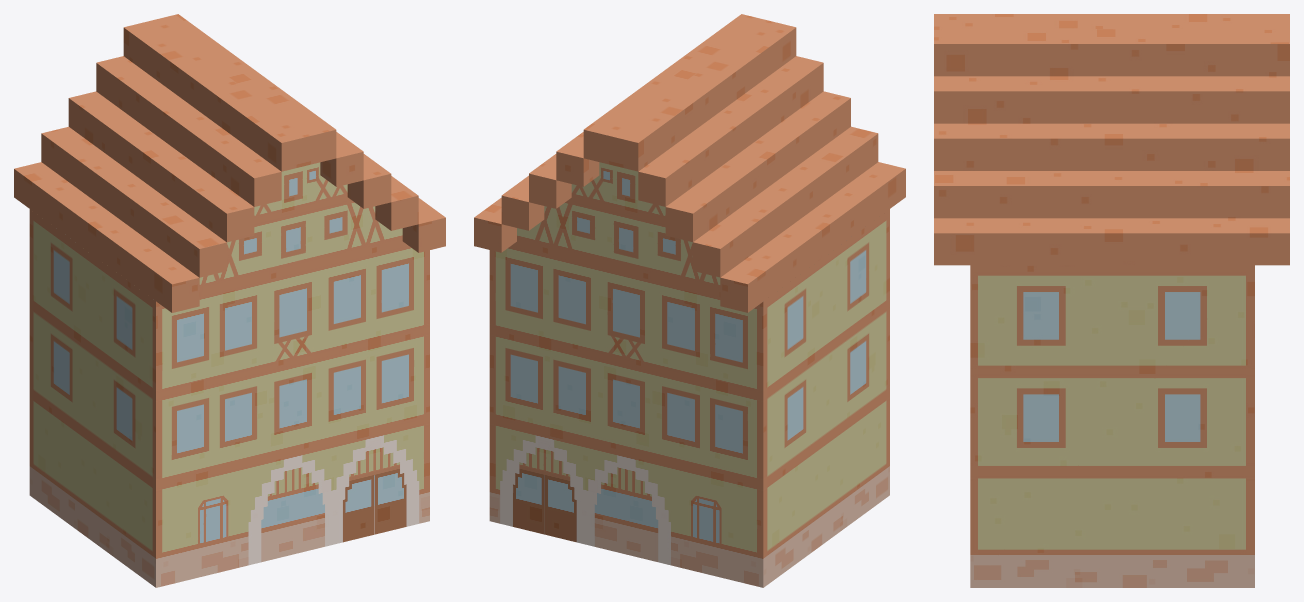
The model's file is bungalow01.FBX.
3 renders of one model, left to right at view 1: azimuth 30°, elevation 25°; view 2: azimuth 150°, elevation 25°; view 3: azimuth 270°, elevation 25°, orthographic. The views are drawn at different scales.
Visible parts, largest first — view 1: Box002, Box003; view 2: Box002, Box003; view 3: Box002, Box003.
Part boxes in pixels (bbox=[...]): Box002: bbox=[29, 162, 429, 587]; Box003: bbox=[14, 14, 445, 312]; Box002: bbox=[489, 162, 889, 587]; Box003: bbox=[474, 14, 905, 312]; Box002: bbox=[970, 265, 1254, 587]; Box003: bbox=[934, 14, 1289, 265].
Size of the model in its own units: 118 by 177 by 118.
Materials: 1 (1 with a texture image).
